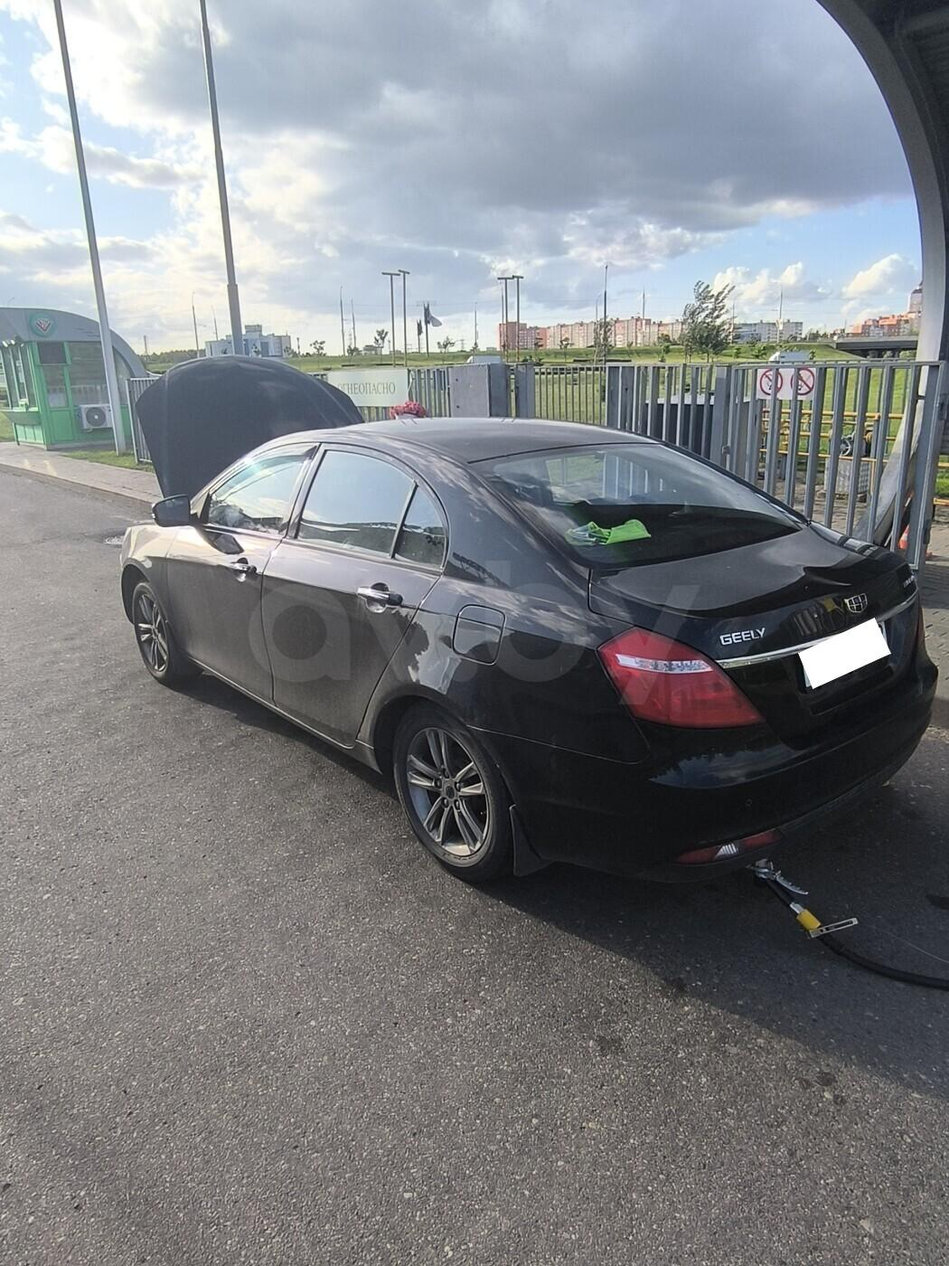Emgrand_2019-2021: (119, 418, 936, 882)
